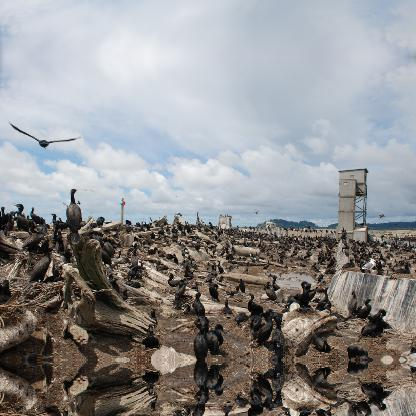Bird: (100, 216, 414, 272), (8, 121, 76, 150), (53, 183, 82, 231), (22, 225, 52, 257), (360, 308, 384, 338), (360, 380, 384, 410), (29, 242, 46, 282), (193, 316, 209, 358), (268, 314, 284, 356), (193, 360, 209, 402), (268, 362, 284, 404), (12, 200, 30, 234), (308, 329, 330, 355), (308, 363, 330, 389), (245, 292, 268, 315), (206, 324, 222, 356), (206, 362, 222, 394), (346, 345, 376, 359), (346, 359, 376, 373), (259, 312, 271, 344), (259, 374, 271, 406), (170, 284, 186, 306), (244, 402, 268, 415), (206, 281, 220, 303), (340, 290, 350, 318), (168, 274, 182, 292), (282, 296, 300, 310), (194, 291, 204, 313), (230, 312, 247, 324), (230, 394, 247, 406), (225, 298, 233, 322), (270, 274, 280, 292), (392, 264, 410, 274), (225, 395, 234, 415), (339, 258, 351, 272), (340, 400, 351, 415), (216, 260, 226, 276), (266, 282, 276, 298), (302, 277, 308, 303), (32, 202, 40, 221), (281, 408, 301, 415), (0, 204, 5, 229), (126, 264, 138, 274), (193, 405, 205, 415), (125, 244, 139, 252), (360, 298, 366, 316), (359, 402, 367, 415), (170, 253, 180, 263), (306, 290, 316, 300), (364, 258, 372, 270), (192, 243, 200, 253), (210, 264, 218, 274), (244, 262, 250, 274), (242, 280, 247, 294), (308, 266, 320, 271), (318, 270, 322, 282), (146, 248, 156, 252), (162, 254, 171, 258), (150, 232, 154, 240), (262, 261, 266, 269), (226, 254, 233, 258), (320, 252, 323, 260), (312, 286, 322, 288), (158, 228, 160, 234)
